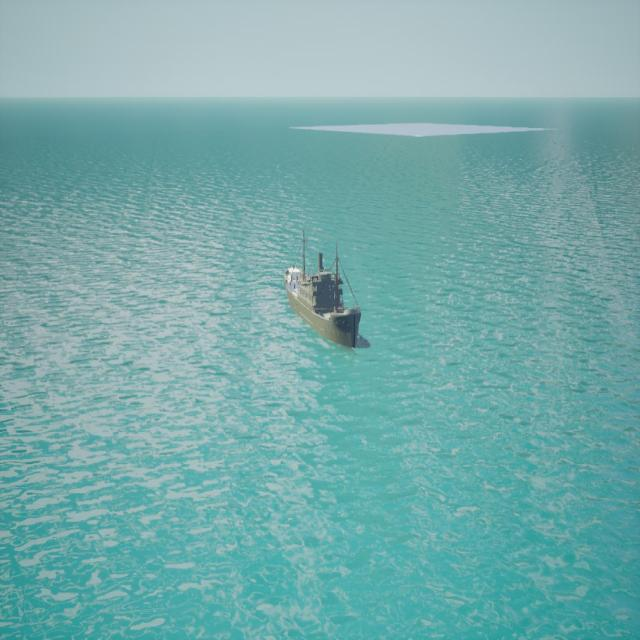fishing ship: (286, 239, 366, 352)
